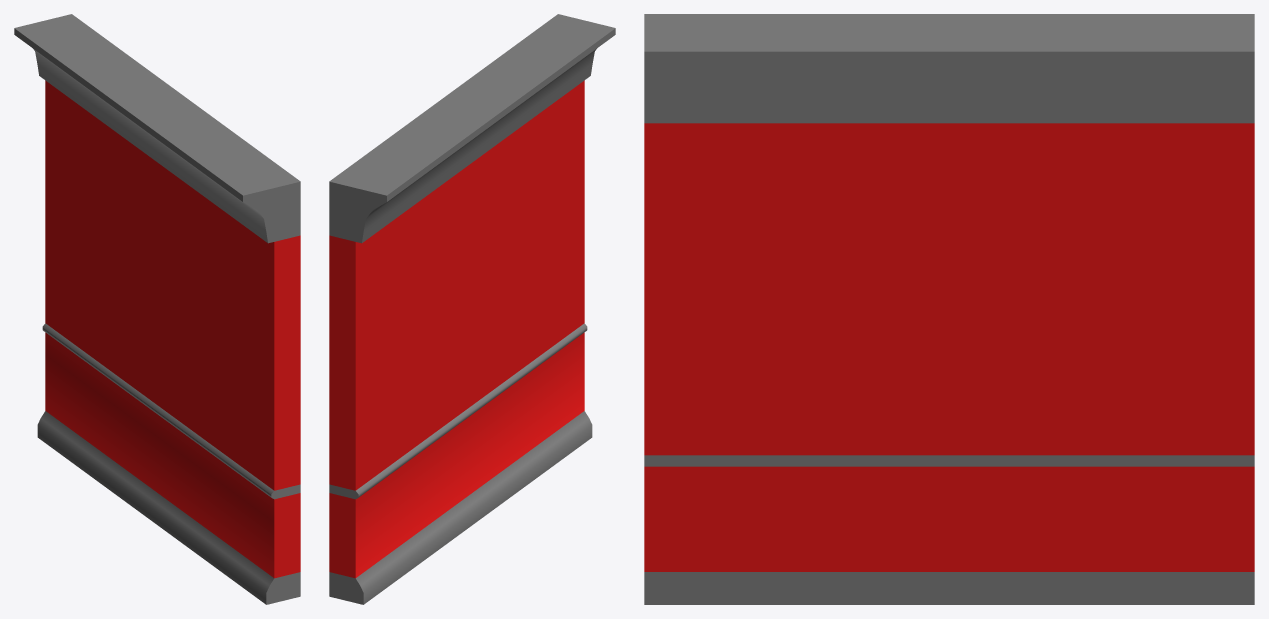
Rendered from Wall2_Base.fbx.
3 views of the same model, side by side, from view 1: azimuth 30°, elevation 25°; view 2: azimuth 150°, elevation 25°; view 3: azimuth 270°, elevation 25° (orthographic). The views are drawn at different scales.
Parts seen in each view (by area): view 1: Wall003_Base; view 2: Wall003_Base; view 3: Wall003_Base.
Boxes of the visible parts, left/top/right/bottom form: Wall003_Base: left=14, top=14, right=300, bottom=604; Wall003_Base: left=329, top=14, right=615, bottom=604; Wall003_Base: left=644, top=14, right=1254, bottom=604.
Size of the model in its own units: 17.19 by 118 by 118.
